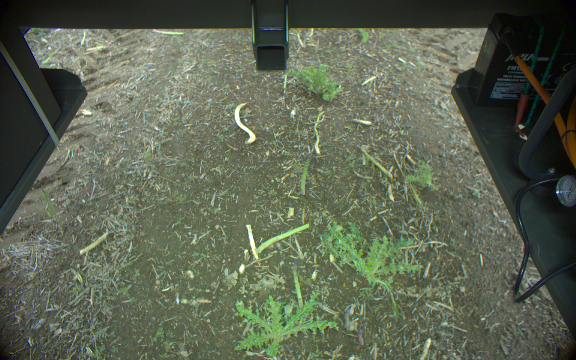aspa: (255, 220, 310, 252), (362, 147, 393, 180), (289, 259, 304, 307), (244, 221, 259, 260), (299, 151, 311, 195), (149, 27, 184, 36)
